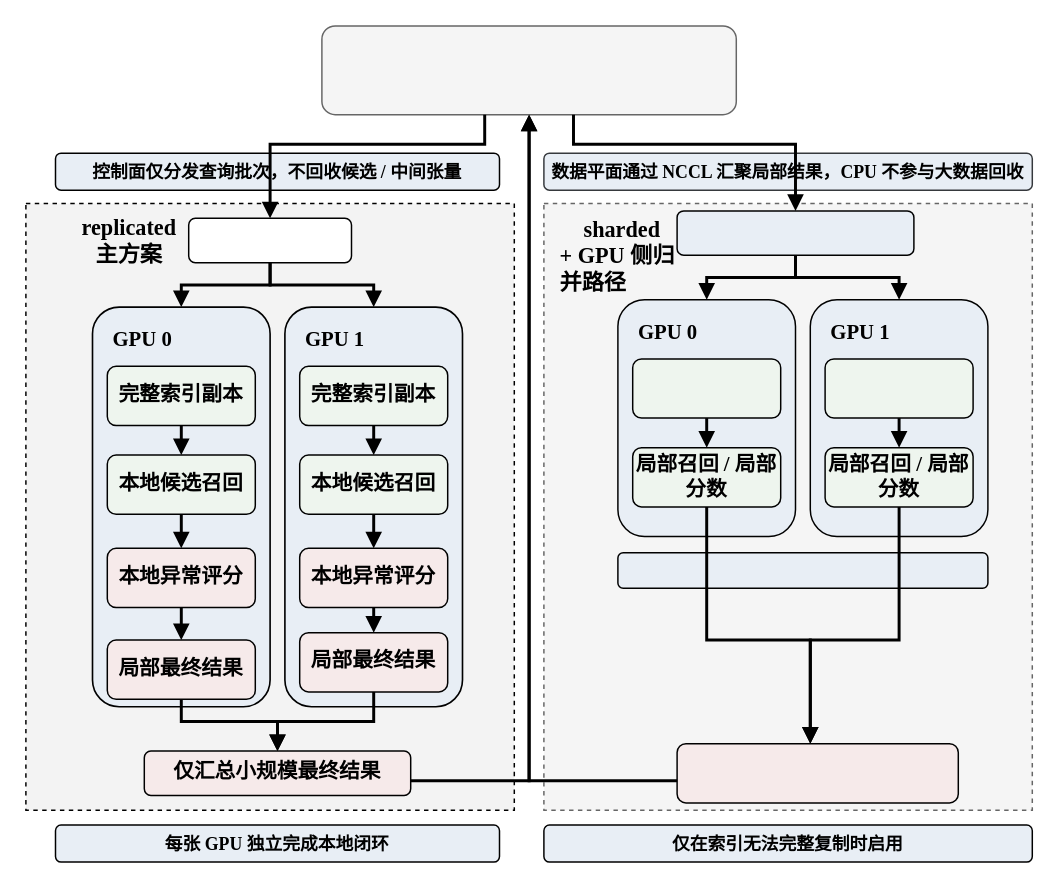
The diagram is 1058 pixels wide and 888 high, and some of its shapes have lost their labels. Here are the shapes that lost their labels. From the top down, the box of each, then its label:
(320, 24, 736, 115): CPU 控制面 请求队列 / 动态批次 / 负载感知分发 仅分发任务与回收小规模最终结果
(187, 217, 352, 263): 查询 / 微批分发
(676, 209, 914, 255): 查询广播 / 局部分片执行
(631, 357, 781, 418): 分片索引 0
(824, 357, 973, 418): 分片索引 1
(616, 551, 988, 588): NCCL 数据平面汇聚
(676, 742, 958, 803): Merge GPU / Root Rank GPU 侧归并 + 最终评分
